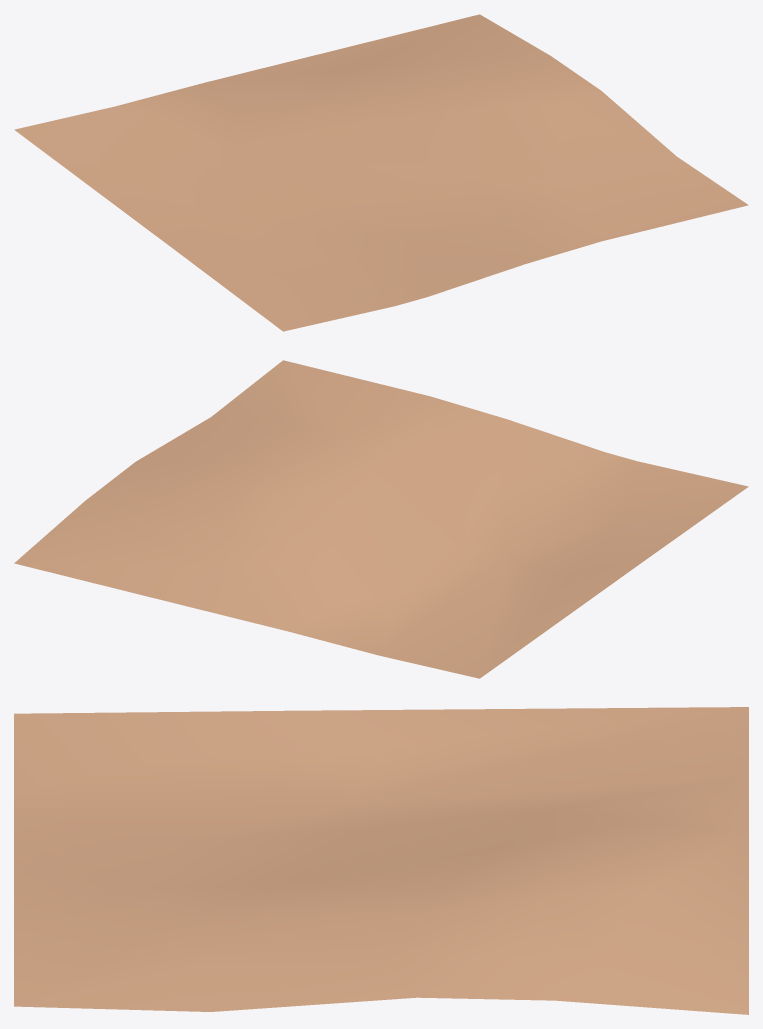
File: Sand.fbx
3 views of the same model, one above another, from view 1: azimuth 30°, elevation 25°; view 2: azimuth 150°, elevation 25°; view 3: azimuth 270°, elevation 25° (orthographic). The views are drawn at different scales.
Parts seen in each view (by area): view 1: Sand; view 2: Sand; view 3: Sand.
Part boxes in pixels (box(x1,y1,x2,y2)): Sand: box(14, 14, 748, 331); Sand: box(14, 360, 748, 678); Sand: box(14, 707, 748, 1014).
Size of the model in its own units: 4999 by 360 by 5005.
